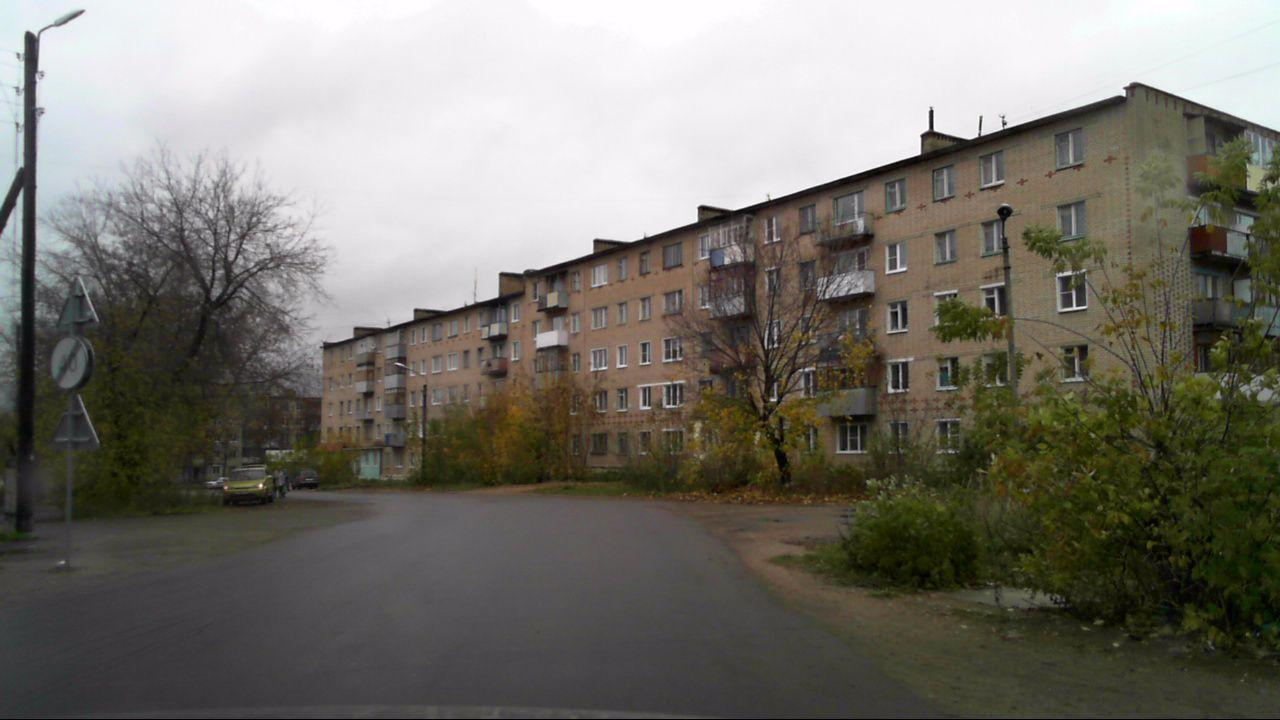3_25: (49, 336, 90, 388)
